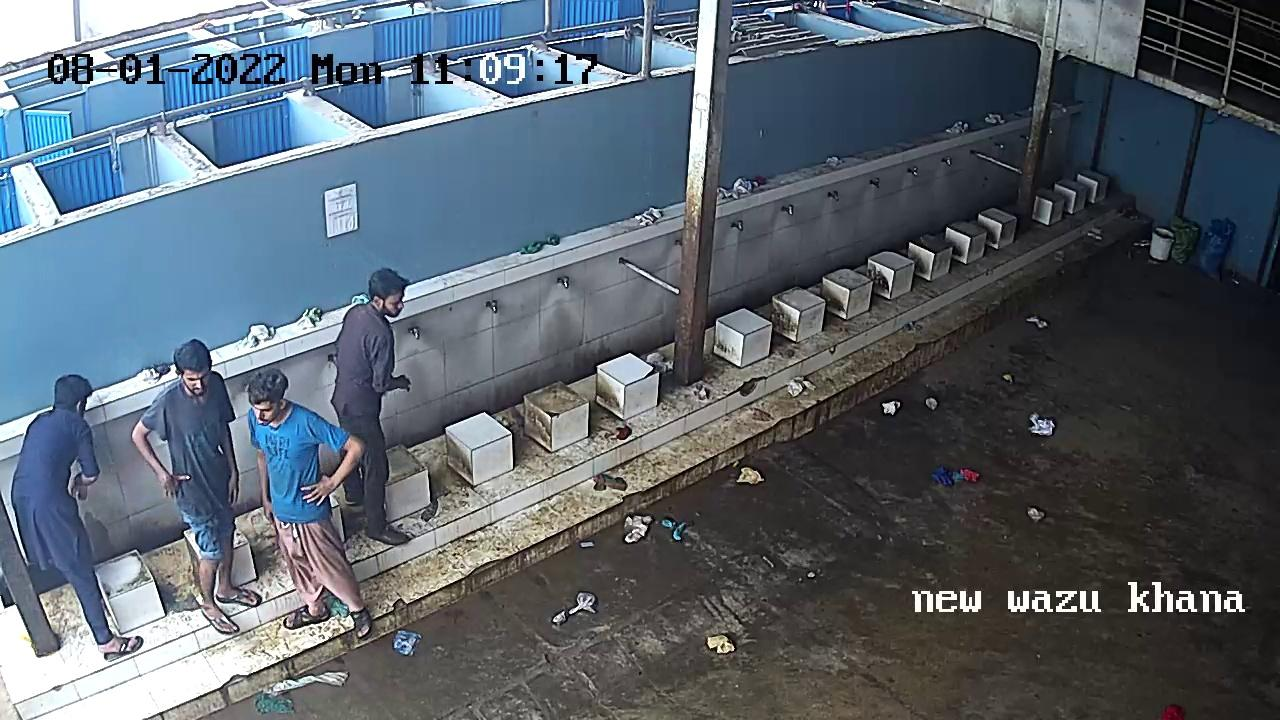person: (246, 380, 372, 642), (159, 338, 252, 642), (34, 388, 119, 625), (349, 270, 419, 530)
